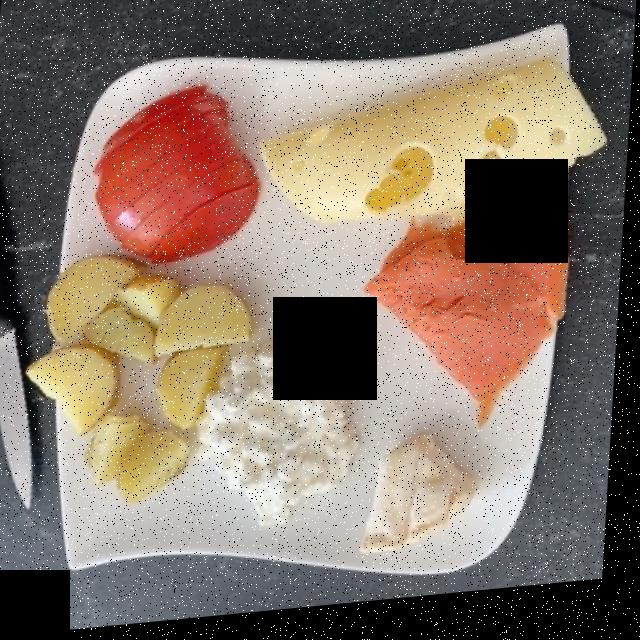cottage-cheese: (209, 349, 359, 526)
potatoes-steamed: (37, 262, 240, 499)
salmon-smoked: (375, 214, 570, 421)
semi-hard-cheese: (270, 71, 598, 229)
soft-cheese: (369, 450, 479, 561)
tomato-raw: (97, 98, 251, 266)
